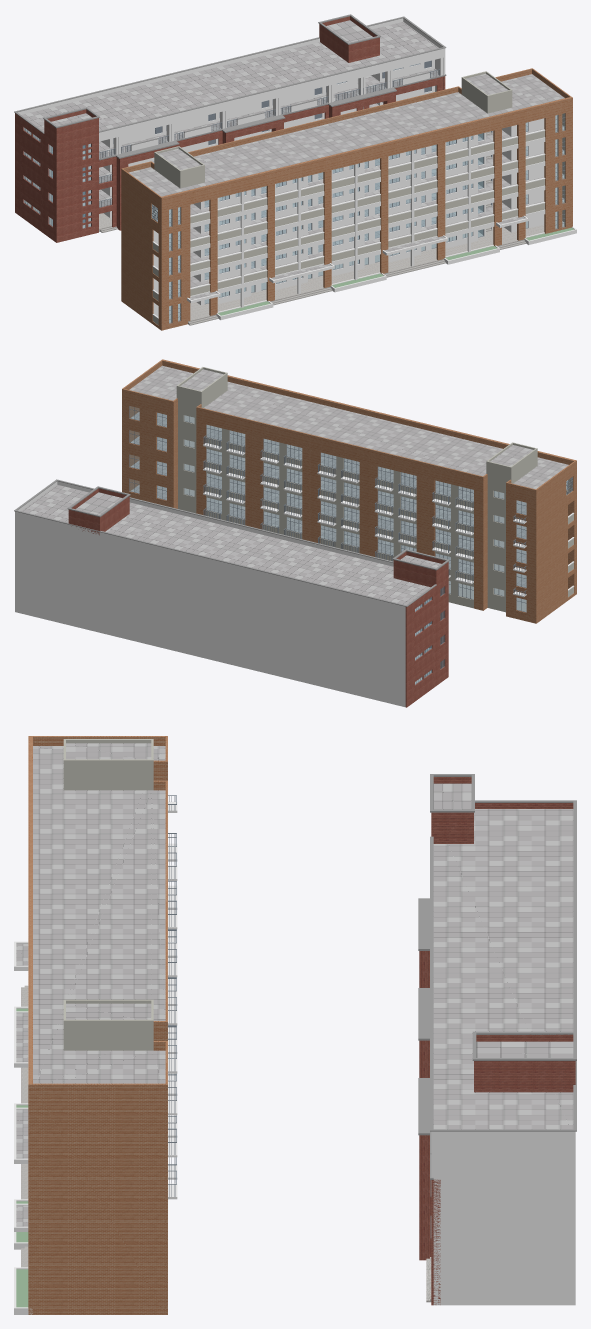
Rendered from teaching-1.glb.
3 renders of one model, top to bottom at view 1: azimuth 30°, elevation 25°; view 2: azimuth 150°, elevation 25°; view 3: azimuth 270°, elevation 25°, orthographic. The views are drawn at different scales.
Visible parts, largest first — view 1: Teaching_1; view 2: Teaching_1; view 3: Teaching_1.
Boxes of the visible parts, bbox=[...] form: Teaching_1: bbox=[14, 14, 576, 330]; Teaching_1: bbox=[14, 359, 576, 707]; Teaching_1: bbox=[14, 736, 576, 1314].
Bounding box in the file's own units: 54.82 × 18.46 × 37.42.
Materials: 10 (4 with a texture image).
